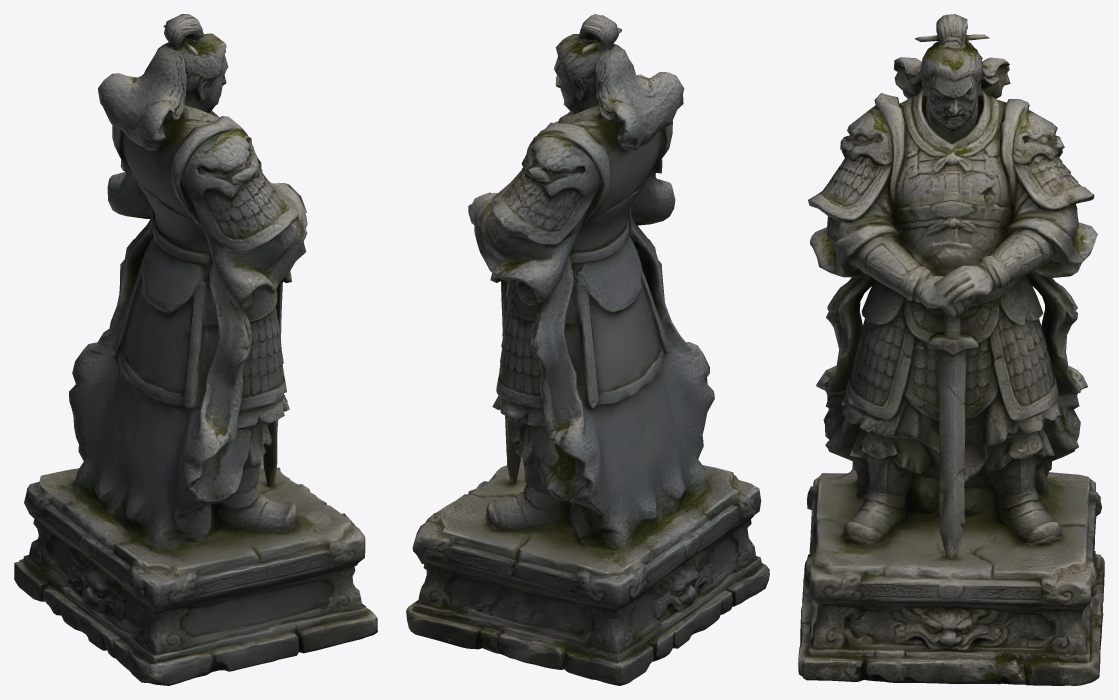
The picture shows the model from 3 angles, left to right: view 1: azimuth 30°, elevation 25°; view 2: azimuth 150°, elevation 25°; view 3: azimuth 270°, elevation 25°; orthographic projection. The views are drawn at different scales.
Visible parts, largest first — view 1: tripo_node_95d5b69c-91fd-4a79-9bee-336247233db6; view 2: tripo_node_95d5b69c-91fd-4a79-9bee-336247233db6; view 3: tripo_node_95d5b69c-91fd-4a79-9bee-336247233db6.
Part boxes in pixels (bbox=[...]): tripo_node_95d5b69c-91fd-4a79-9bee-336247233db6: bbox=[14, 14, 377, 685]; tripo_node_95d5b69c-91fd-4a79-9bee-336247233db6: bbox=[406, 14, 769, 685]; tripo_node_95d5b69c-91fd-4a79-9bee-336247233db6: bbox=[798, 14, 1104, 685].
Size of the model in its own units: 0.4081 by 1 by 0.4555.
Materials: 1 (1 with a texture image).
